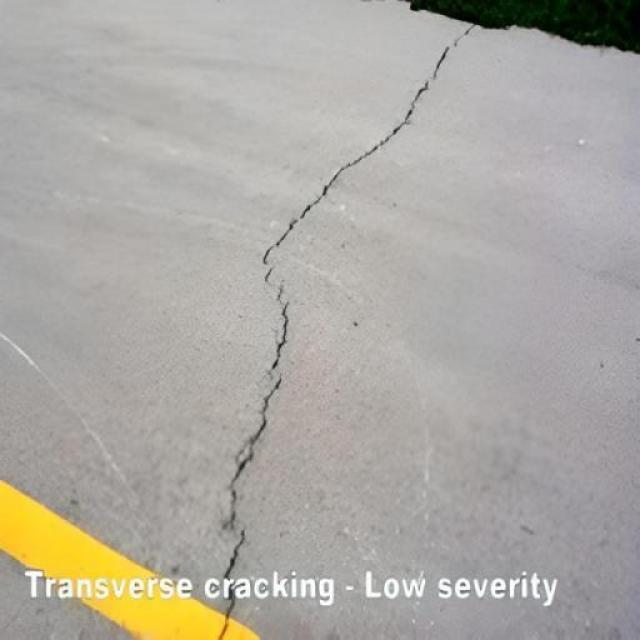moderate crack: (209, 524, 248, 633)
severe crack: (238, 30, 459, 606), (4, 309, 138, 500), (219, 503, 238, 530), (262, 240, 279, 265), (263, 261, 278, 289), (402, 116, 412, 125)
